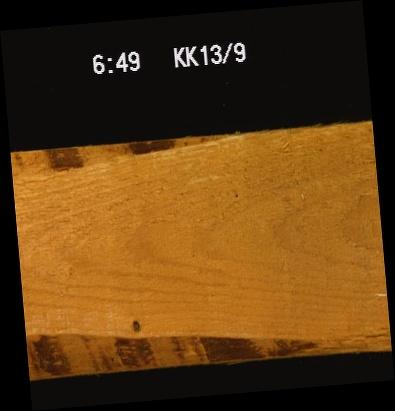small_knot: (127, 317, 142, 333)
wave: (27, 317, 389, 364), (11, 140, 243, 170)
